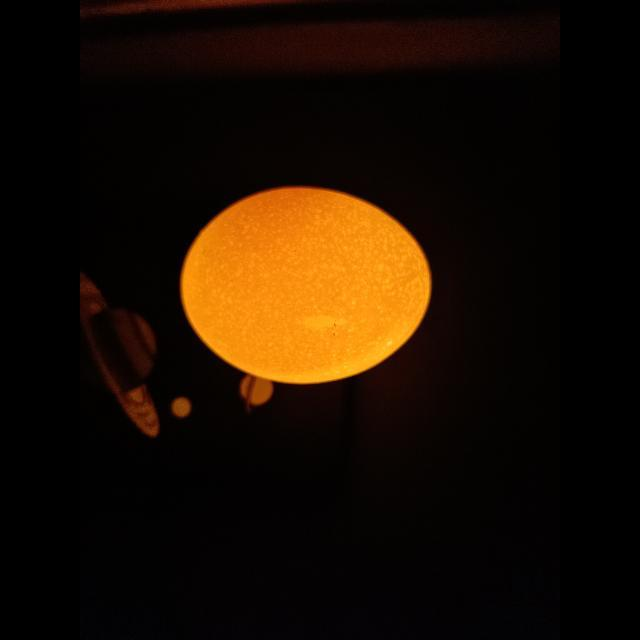AA - Premium: (181, 188, 431, 384)
